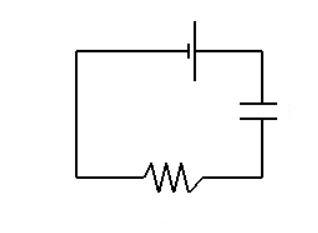resistor: (135, 153, 216, 201)
